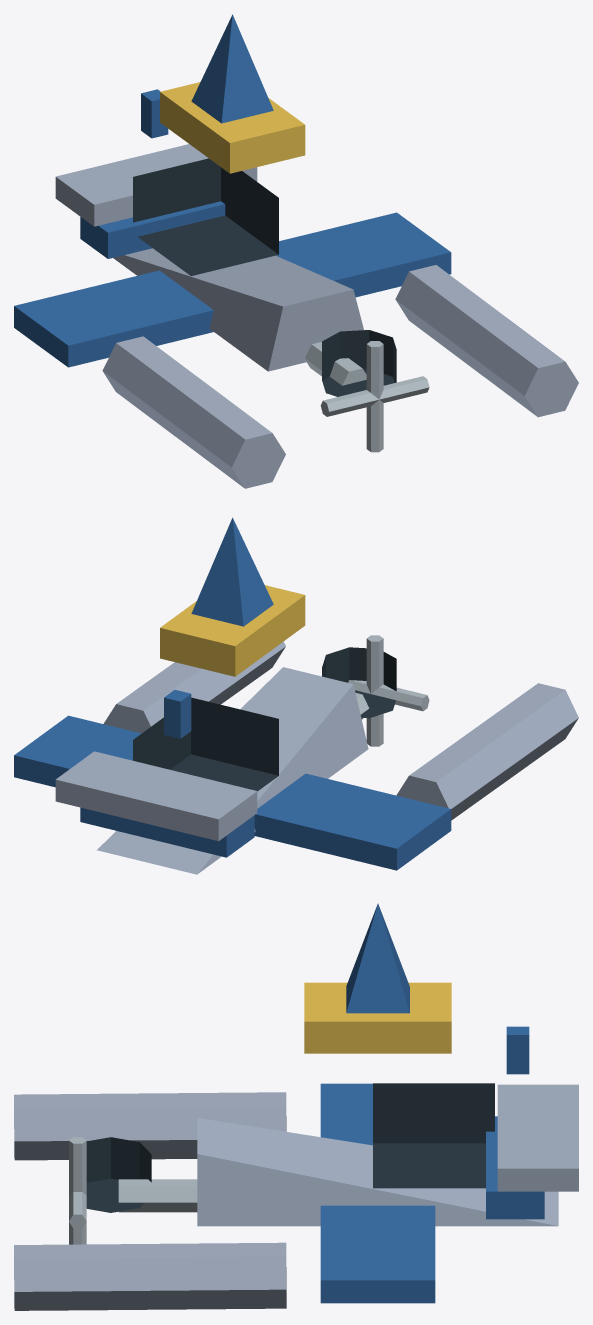
File: gunship.obj
The picture shows the model from 3 angles, top to bottom: view 1: azimuth 30°, elevation 25°; view 2: azimuth 150°, elevation 25°; view 3: azimuth 270°, elevation 25°; orthographic projection. The views are drawn at different scales.
Visible parts, largest first — view 1: air; view 2: air; view 3: air.
Boxes of the visible parts, <box> form: air: <box>14,14,578,488</box>; air: <box>14,517,578,874</box>; air: <box>14,903,578,1310</box>.
Bounding box in the file's own units: 1.83 × 1.51 × 2.22.
